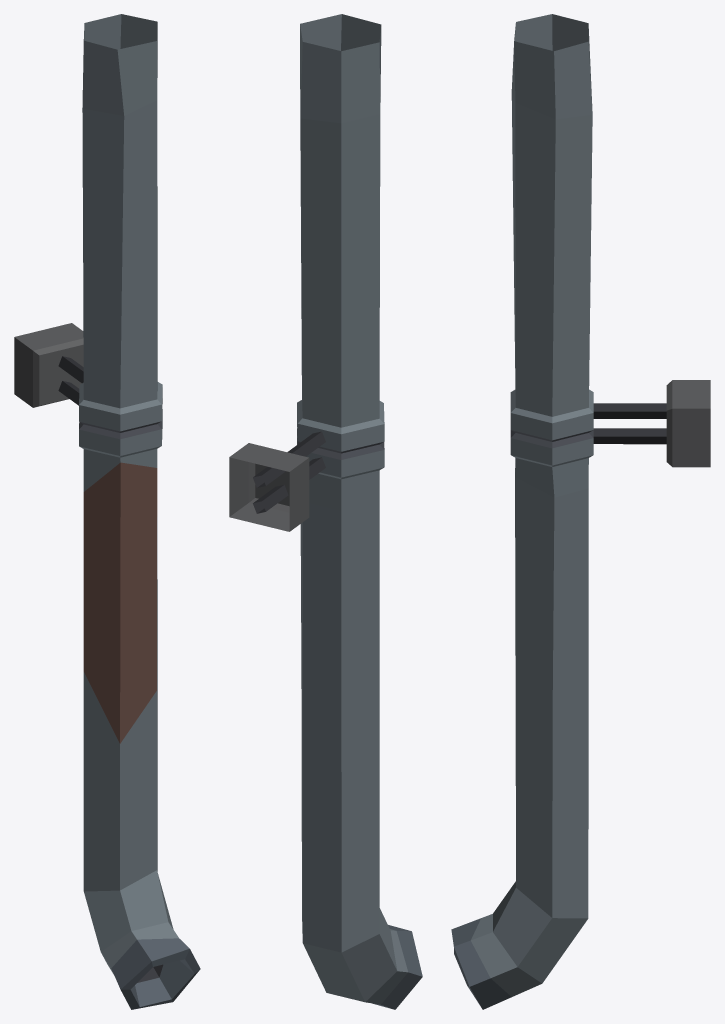
File: SM_Rainwater_Pipe_Down.fbx
The picture shows the model from 3 angles, left to right: view 1: azimuth 30°, elevation 25°; view 2: azimuth 150°, elevation 25°; view 3: azimuth 270°, elevation 25°; orthographic projection. The views are drawn at different scales.
Parts seen in each view (by area): view 1: SM_Rainwater_Pipe_Down; view 2: SM_Rainwater_Pipe_Down; view 3: SM_Rainwater_Pipe_Down.
Boxes of the visible parts, left/top/right/bottom form: SM_Rainwater_Pipe_Down: left=14, top=14, right=200, bottom=1009; SM_Rainwater_Pipe_Down: left=229, top=14, right=422, bottom=1009; SM_Rainwater_Pipe_Down: left=451, top=14, right=710, bottom=1009.
Bounding box in the file's own units: 25.76 × 280 × 67.85.
